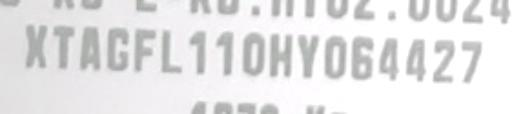letter: (428, 35, 458, 85), (18, 21, 50, 67), (236, 28, 266, 76), (156, 28, 186, 76), (458, 35, 484, 85), (102, 27, 130, 73), (130, 27, 158, 73), (48, 21, 74, 69), (294, 28, 320, 76), (322, 34, 350, 78), (76, 25, 100, 73), (266, 28, 290, 76), (350, 36, 376, 80), (214, 27, 236, 78), (184, 26, 206, 76), (378, 34, 400, 82), (404, 38, 426, 82)
